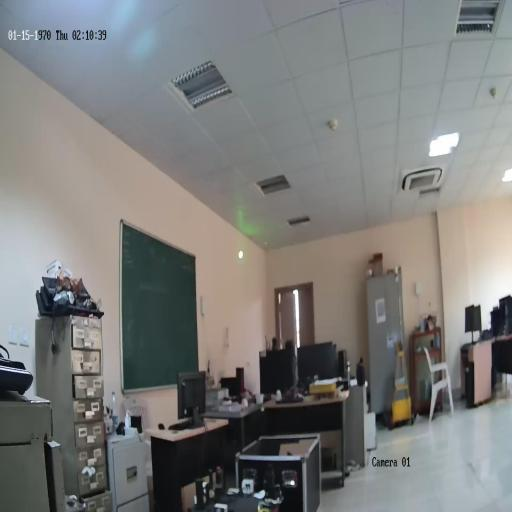laser: (236, 246, 244, 262)
